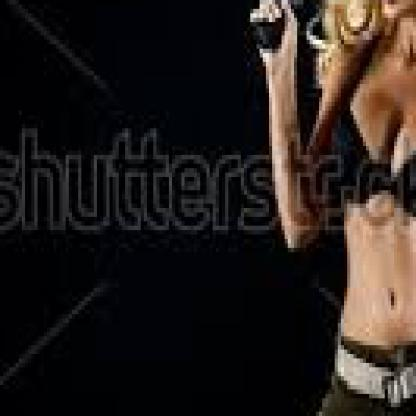gun: (234, 0, 316, 58)
